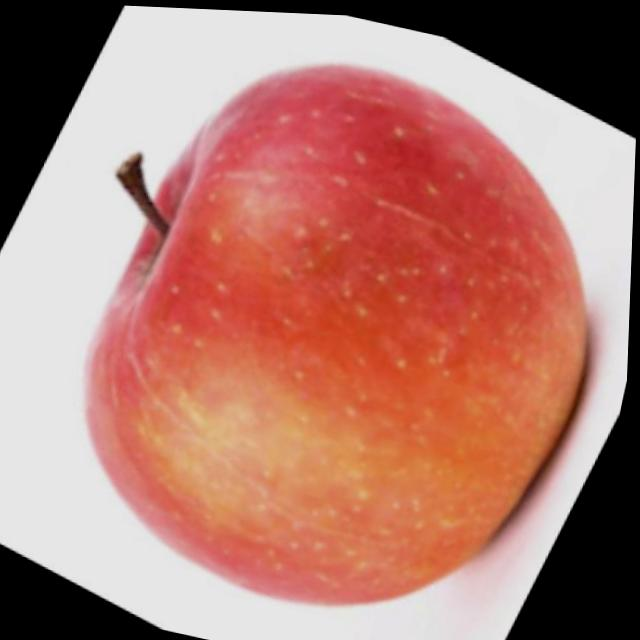Apple: (36, 10, 640, 640)
